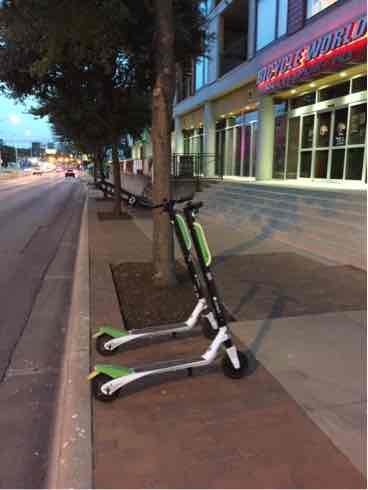scooter: (84, 186, 249, 401)
